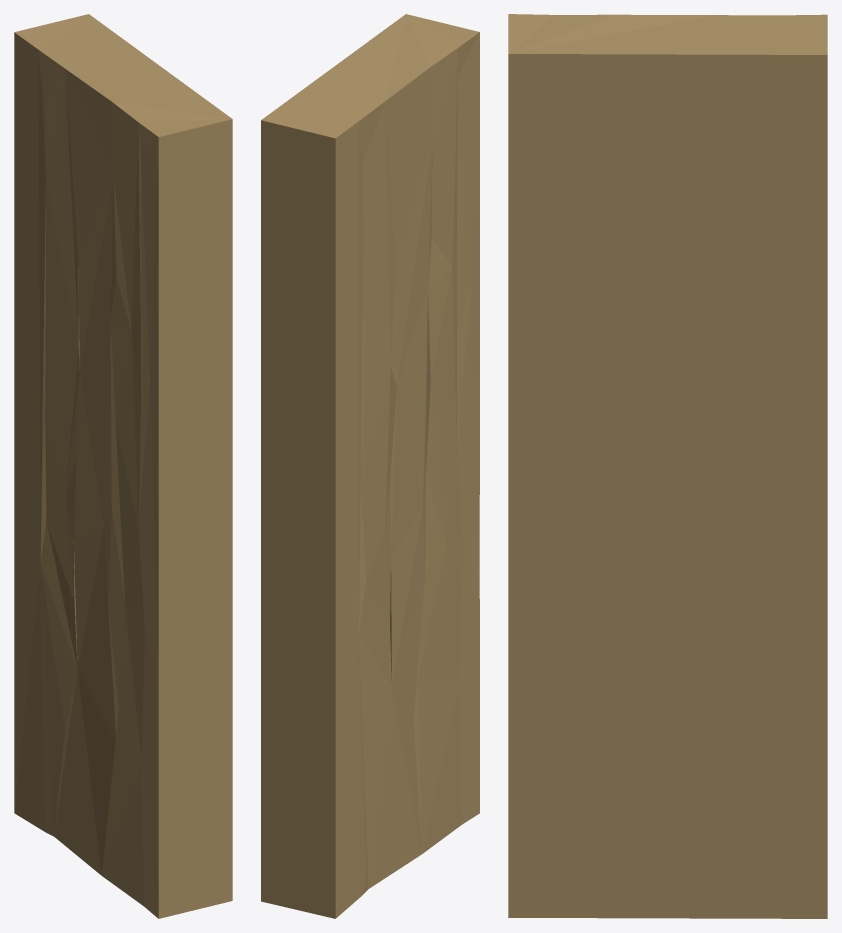
Rendered from wall_wood_planks.FBX.
The picture shows the model from 3 angles, left to right: view 1: azimuth 30°, elevation 25°; view 2: azimuth 150°, elevation 25°; view 3: azimuth 270°, elevation 25°; orthographic projection. The views are drawn at different scales.
Parts seen in each view (by area): view 1: wall_wood_planks; view 2: wall_wood_planks; view 3: wall_wood_planks.
Part boxes in pixels (bbox=[...]): wall_wood_planks: bbox=[14, 14, 232, 918]; wall_wood_planks: bbox=[261, 14, 479, 918]; wall_wood_planks: bbox=[508, 14, 827, 918].
Bounding box in the file's own units: 30 × 300 × 100.
